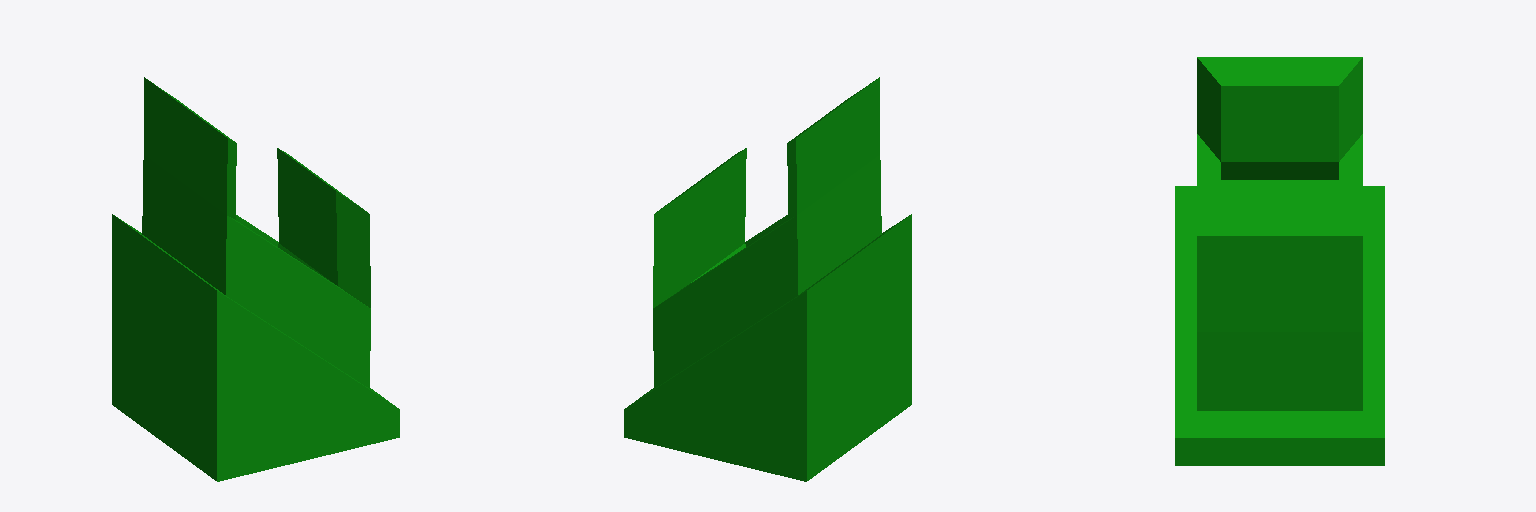
Rendered from edge.obj.
The picture shows the model from 3 angles: view 1: azimuth 30°, elevation 25°; view 2: azimuth 150°, elevation 25°; view 3: azimuth 270°, elevation 25°; orthographic projection.
Bounding box in the file's own units: 15.58 × 26.93 × 15.58.